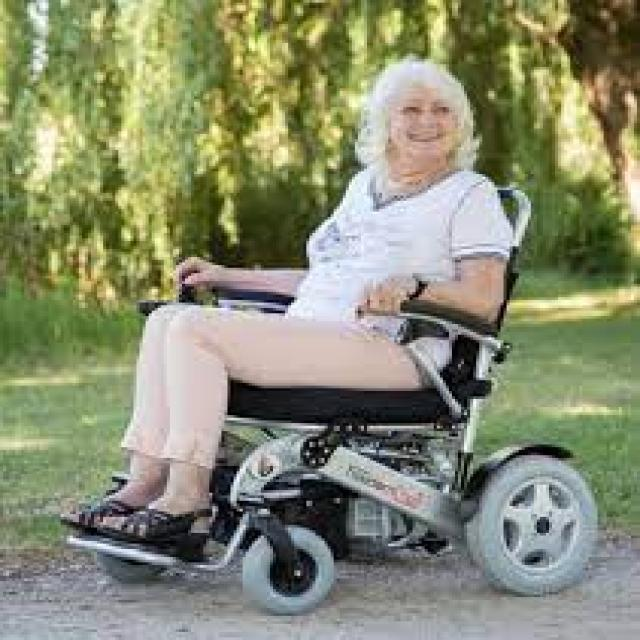wheelchairs: (56, 145, 596, 640)
